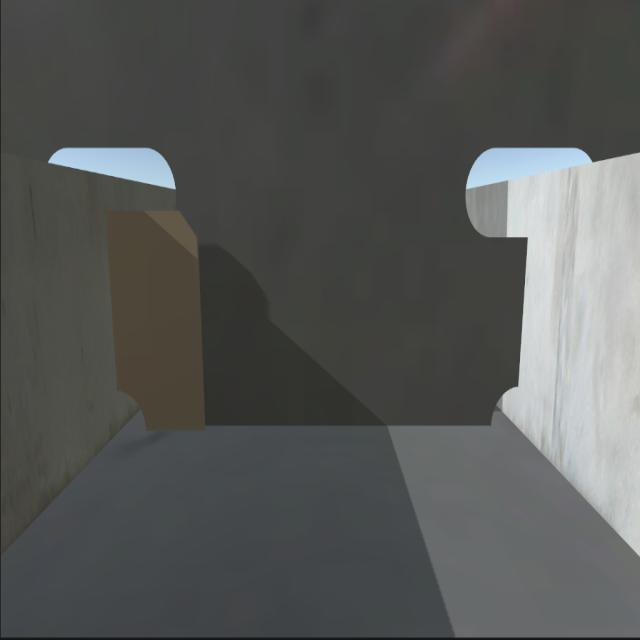fillet_hole: (483, 380, 522, 430), (117, 386, 150, 432)
fillet_yong_jeop_jang: (147, 418, 491, 435)
longi_yong_jeop_jang: (511, 240, 533, 382), (107, 219, 125, 389)
plate_CP03: (112, 209, 209, 426)
